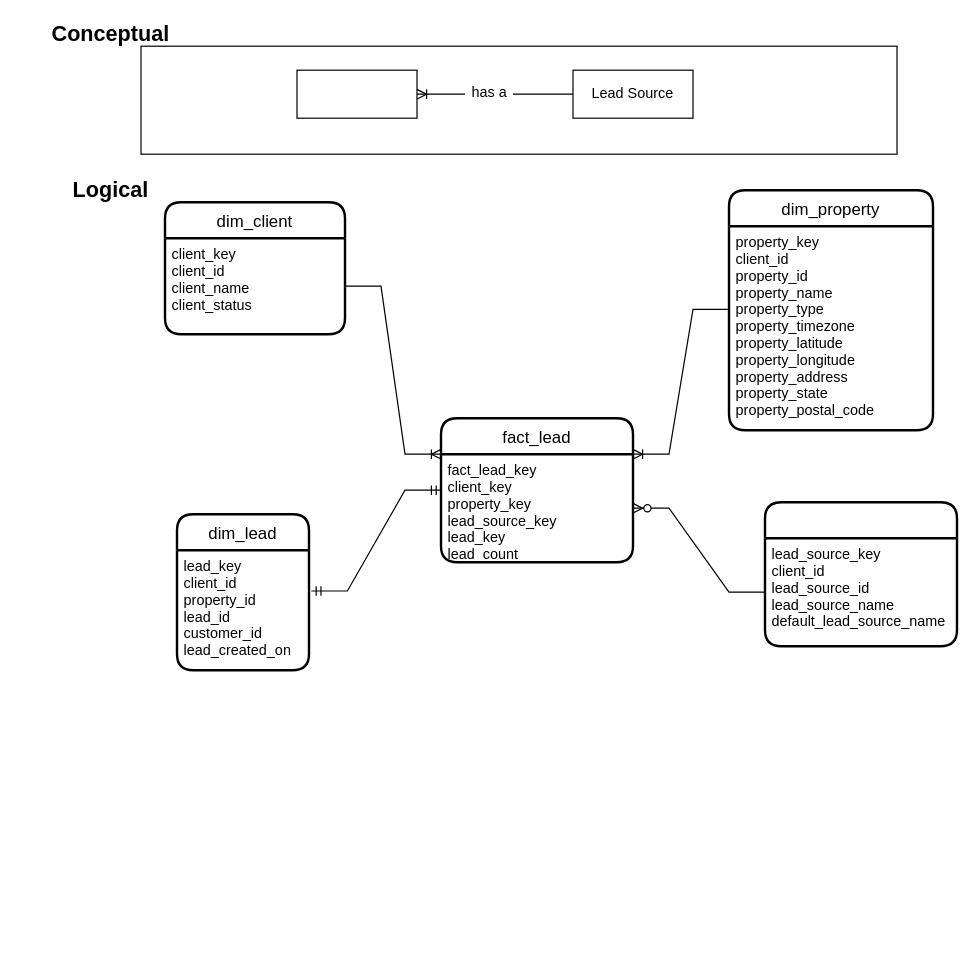
This 978x955 diagram has some shape labels left out. The shapes that lost their labels are listed below. From the top down, each one's box as (x1, y1, x2, y2) in pixels, then its label:
(296, 69, 417, 118): Lead
(763, 500, 958, 647): dim_lead_source
